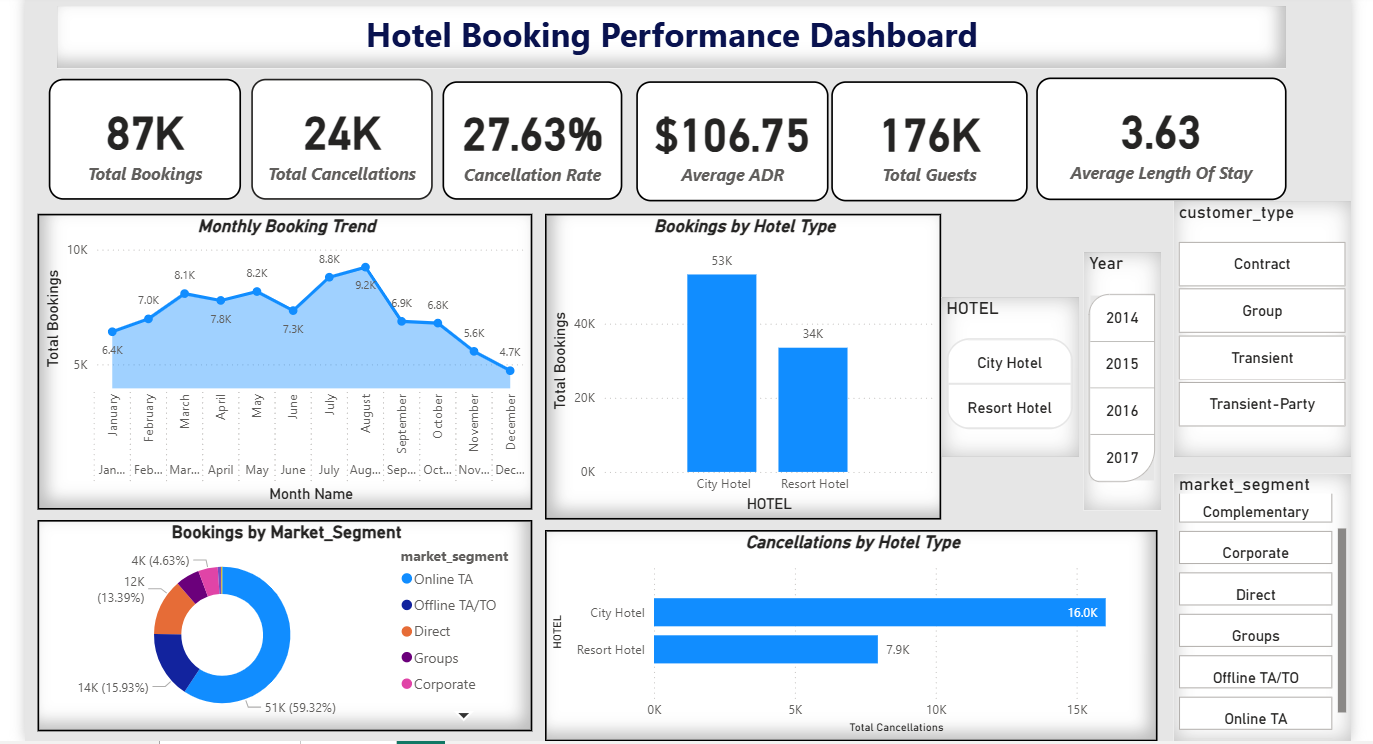

The page's visual inventory and layout, read from the dashboard file:
{"tool":"powerbi","page":{"name":"DASHBOARD","canvas":[1280,720],"ordinal":0},"visuals":[{"type":"card","fields":{"Values":["DateTable.Total Bookings"]},"box":[22.9,80.8,185.8,117],"z":0},{"type":"card","fields":{"Values":["DateTable.Total Cancellations"]},"box":[218.4,80.8,174.9,117],"z":1000},{"type":"card","fields":{"Values":["DateTable.Cancellation Rate"]},"box":[403,83.2,173.7,114.6],"z":2000},{"type":"card","fields":{"Values":["DateTable.Average ADR"]},"box":[589.9,83.2,185.8,115.8],"z":3000},{"type":"card","fields":{"Values":["DateTable.TOTAL GUESTS"]},"box":[778.2,83.2,189.4,115.8],"z":4000},{"type":"card","fields":{"Values":["DateTable.AVERAGE LENGTH OF STAY"]},"box":[976,79.6,241.3,118.2],"z":5000},{"type":"lineChart","title":"Monthly Booking Trend","fields":{"Category":["DateTable.Month Name","DateTable.Year","DateTable.Month Name"],"Y":["DateTable.Total Bookings"]},"box":[12.1,211.1,477.8,285.9],"z":6000},{"type":"clusteredColumnChart","title":" Bookings by Hotel Type","fields":{"Category":["hotel_booking (3).HOTEL"],"Y":["DateTable.Total Bookings"]},"box":[501.9,211.1,382.4,295.6],"z":7000},{"type":"donutChart","title":"Bookings by Market_Segment","fields":{"Category":["hotel_booking (3).market_segment"],"Y":["DateTable.Total Bookings"]},"box":[12.1,506.7,477.8,203.9],"z":8000},{"type":"barChart","title":" Cancellations by Hotel  Type","fields":{"Category":["hotel_booking (3).HOTEL"],"Y":["DateTable.Total Cancellations"]},"box":[501.9,516.4,591.2,203.9],"z":9000},{"type":"advancedSlicerVisual","fields":{"Values":["DateTable.Year"]},"box":[1021.9,248.5,74.8,248.5],"z":10000},{"type":"advancedSlicerVisual","fields":{"Values":["hotel_booking (3).HOTEL"]},"box":[884.3,292,132.7,153.2],"z":11000},{"type":"advancedSlicerVisual","fields":{"Values":["hotel_booking (3).customer_type"]},"box":[1108.7,199.1,171.3,246.1],"z":12000},{"type":"advancedSlicerVisual","fields":{"Values":["hotel_booking (3).market_segment"]},"box":[1108.7,462.1,171.3,258.2],"z":13000},{"type":"textbox","box":[31.4,10.9,1185.9,60.3],"z":14000},{"type":"actionButton","box":[0,0,100,40],"z":15000}]}

Visuals, with their boxes in screenshot pixels (x1, y1, x2, y2):
card - DateTable.Total Bookings: [52,79,241,198]
card - DateTable.Total Cancellations: [251,79,429,198]
card - DateTable.Cancellation Rate: [439,81,616,198]
card - DateTable.Average ADR: [630,81,819,199]
card - DateTable.TOTAL GUESTS: [821,81,1014,199]
card - DateTable.AVERAGE LENGTH OF STAY: [1023,78,1269,198]
"Monthly Booking Trend" lineChart: [41,211,528,503]
" Bookings by Hotel Type" clusteredColumnChart: [540,211,929,513]
"Bookings by Market_Segment" donutChart: [41,513,528,720]
" Cancellations by Hotel  Type" barChart: [540,522,1142,730]
advancedSlicerVisual - DateTable.Year: [1070,250,1146,503]
advancedSlicerVisual - hotel_booking (3).HOTEL: [929,294,1065,450]
advancedSlicerVisual - hotel_booking (3).customer_type: [1158,199,1332,450]
advancedSlicerVisual - hotel_booking (3).market_segment: [1158,467,1332,730]
textbox: [61,8,1269,69]
actionButton: [29,0,130,37]
